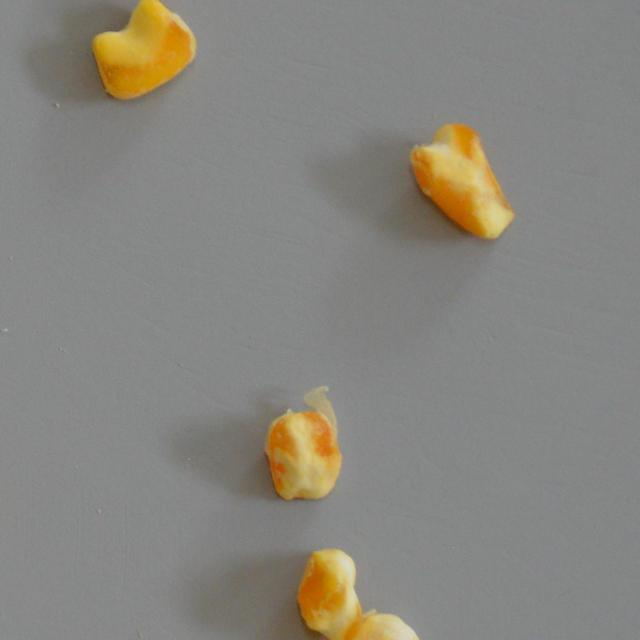pelicula: (405, 120, 516, 242), (90, 0, 200, 100), (262, 384, 347, 503), (294, 546, 362, 640), (344, 612, 424, 640)
